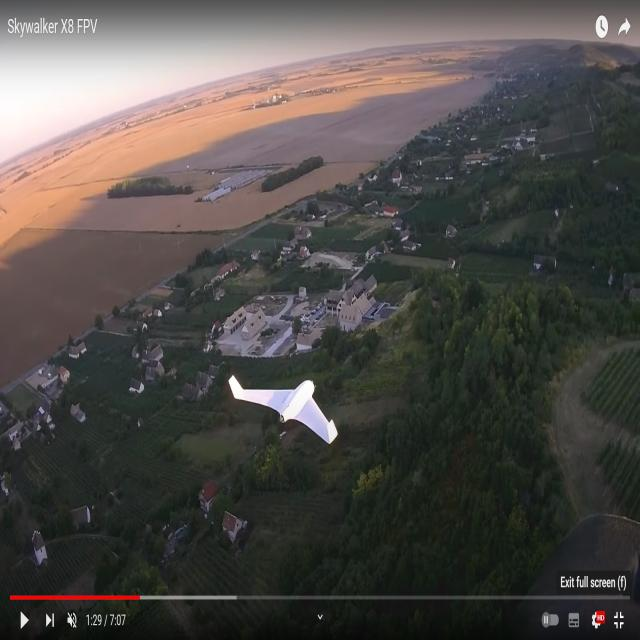iha: (262, 407, 308, 411)
